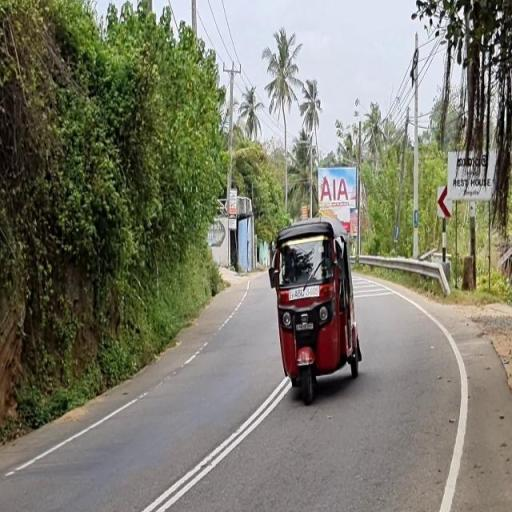double_white_line: (142, 373, 292, 510)
